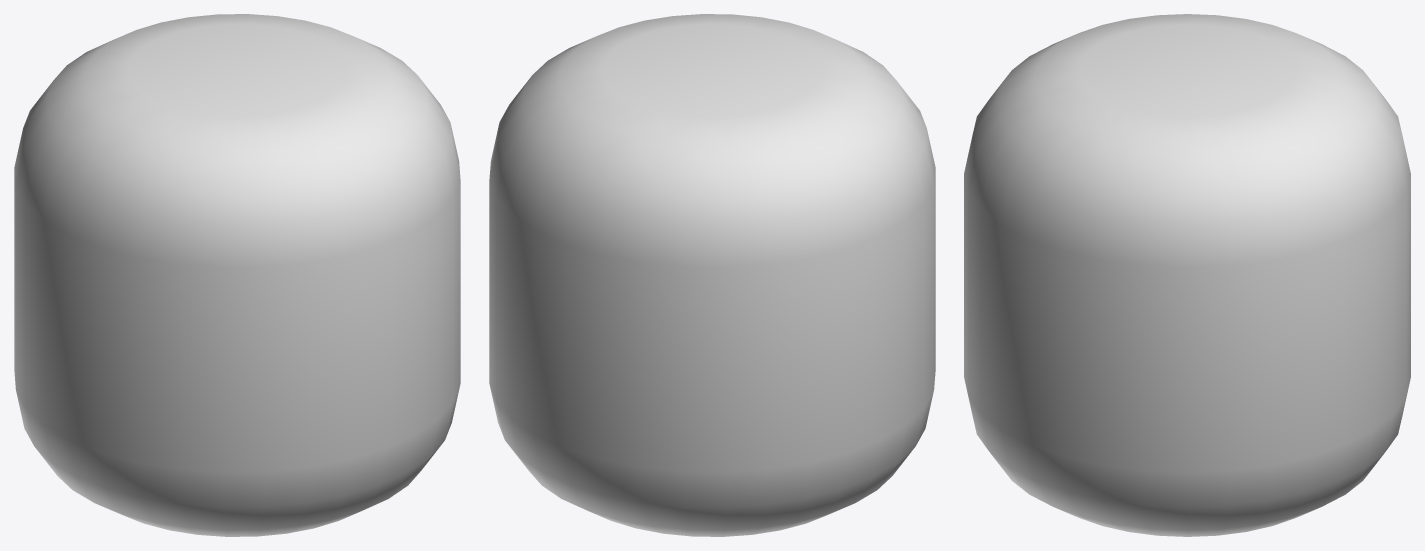
File: 11-Offset-Silly-Face-face.glb
3 renders of one model, left to right at view 1: azimuth 30°, elevation 25°; view 2: azimuth 150°, elevation 25°; view 3: azimuth 270°, elevation 25°, orthographic.
Visible parts, largest first — view 1: 11-Offset-Silly-Face-face; view 2: 11-Offset-Silly-Face-face; view 3: 11-Offset-Silly-Face-face.
Part boxes in pixels (box(x1,y1,x2,y2)): 11-Offset-Silly-Face-face: box(14, 14, 460, 536); 11-Offset-Silly-Face-face: box(489, 14, 935, 536); 11-Offset-Silly-Face-face: box(964, 14, 1410, 536).
Bounding box in the file's own units: 1.19 × 1.21 × 1.19.
Materials: 1 (1 with a texture image).
